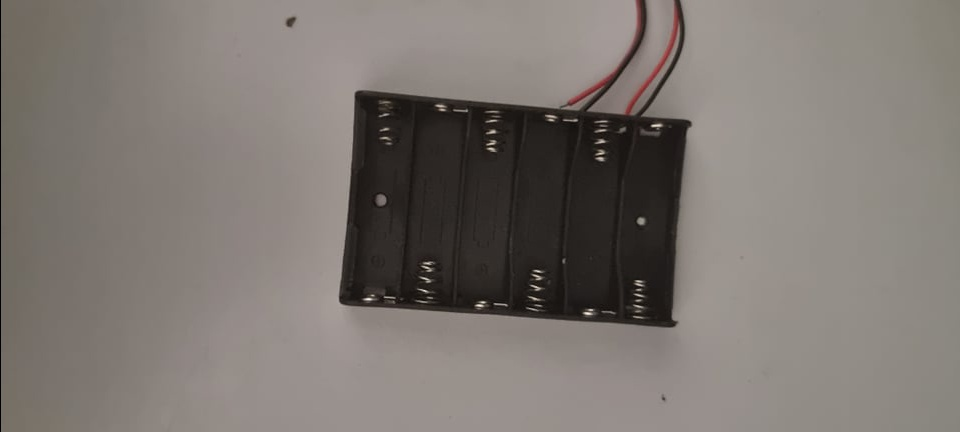BATTERY BOX: (337, 75, 696, 327)
